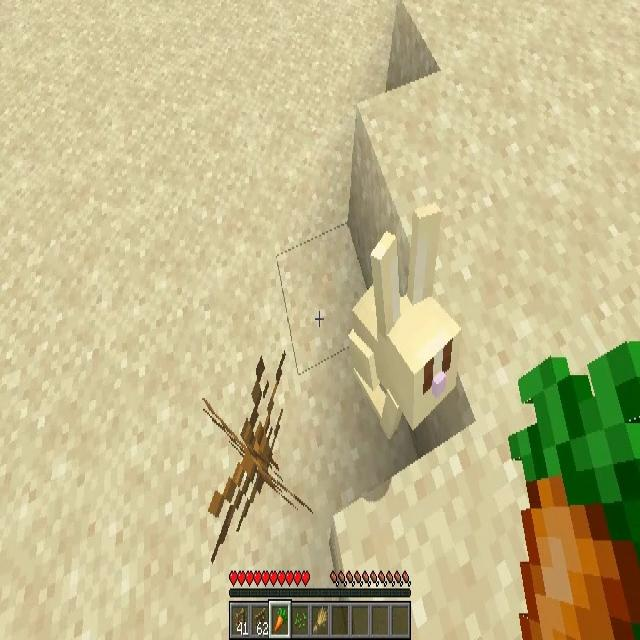rabbit: (354, 230, 454, 442)
